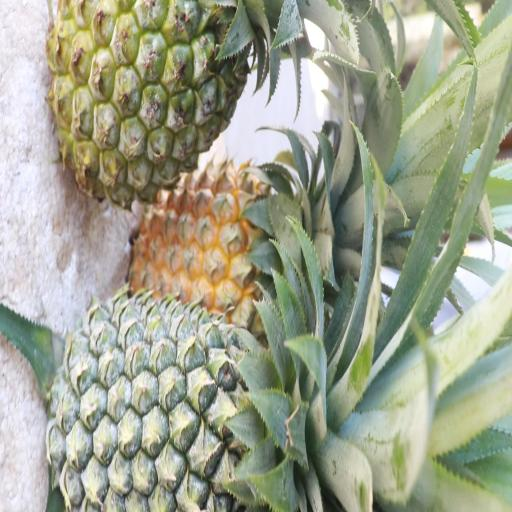------------------------------: (52, 0, 262, 197)
Pineapple - v8 v1: (131, 169, 310, 325)
